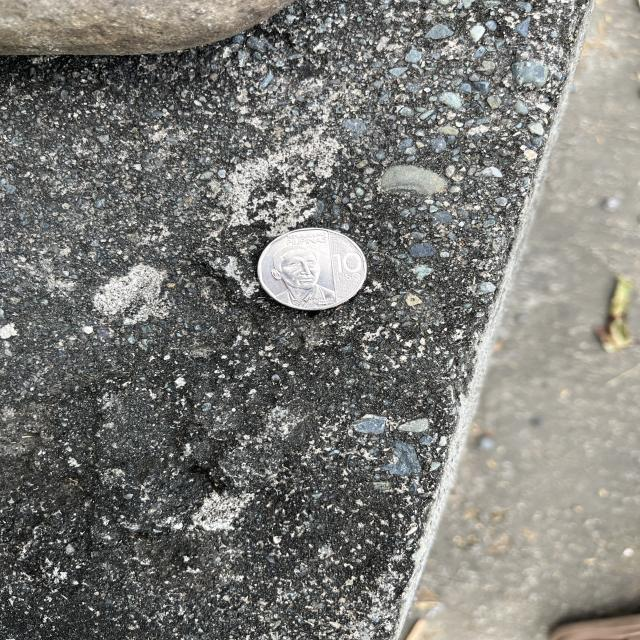10_New_Front: (332, 247, 363, 284)
